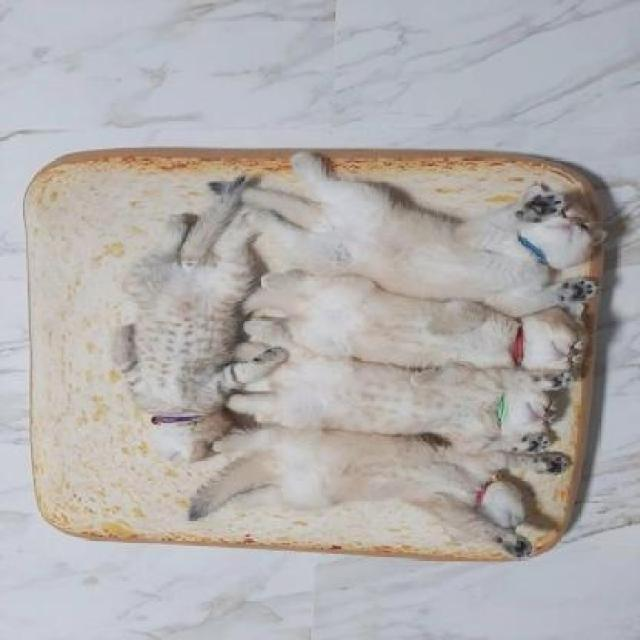cat: (249, 153, 616, 281), (181, 446, 581, 562), (118, 190, 259, 482), (263, 282, 625, 368), (218, 365, 596, 440)
